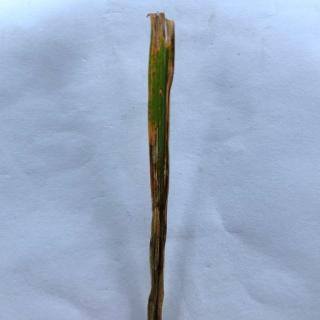Hawar-Daun: (146, 11, 176, 58), (153, 269, 165, 320), (147, 116, 159, 166), (165, 60, 174, 122), (153, 207, 162, 269), (150, 164, 160, 205), (161, 156, 168, 182)
